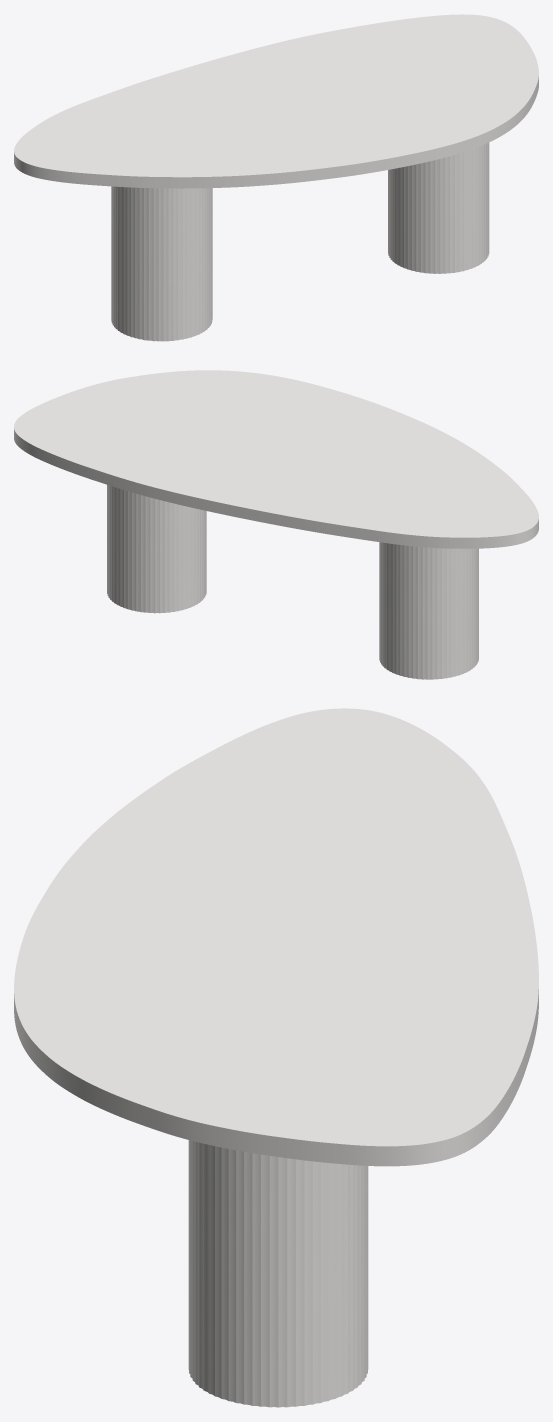
Rendered from purewhite_pebbletop_standard_ripplesecond.glb.
3 views of the same model, one above another, from view 1: azimuth 30°, elevation 25°; view 2: azimuth 150°, elevation 25°; view 3: azimuth 270°, elevation 25° (orthographic). The views are drawn at different scales.
Visible parts, largest first — view 1: standard_pebbletop, ripplesecond; view 2: standard_pebbletop, ripplesecond; view 3: standard_pebbletop, ripplesecond.
Part boxes in pixels (<box>): standard_pebbletop: <box>14,14,538,188</box>; ripplesecond: <box>111,142,489,341</box>; standard_pebbletop: <box>14,370,538,548</box>; ripplesecond: <box>107,485,478,679</box>; standard_pebbletop: <box>14,708,538,1166</box>; ripplesecond: <box>188,1140,368,1407</box>.
Size of the model in its own units: 7.5 by 2.51 by 3.8.
1 material, 1 textured.
